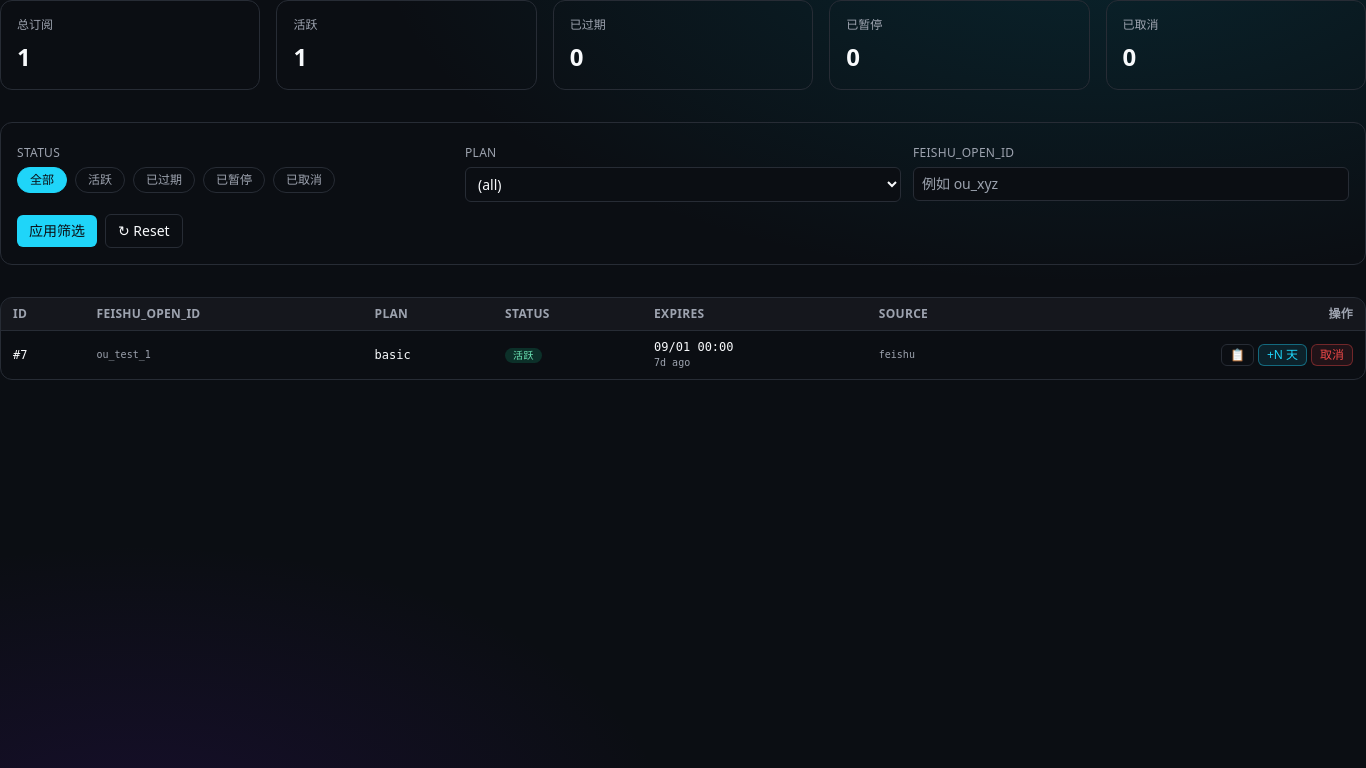
SubscriptionsPanel › Cancel flow: confirm modal → cancelSubscription + refresh
Click the button with test id "sub-cancel-7": (1332, 355) 1311,344 -> 1353,366
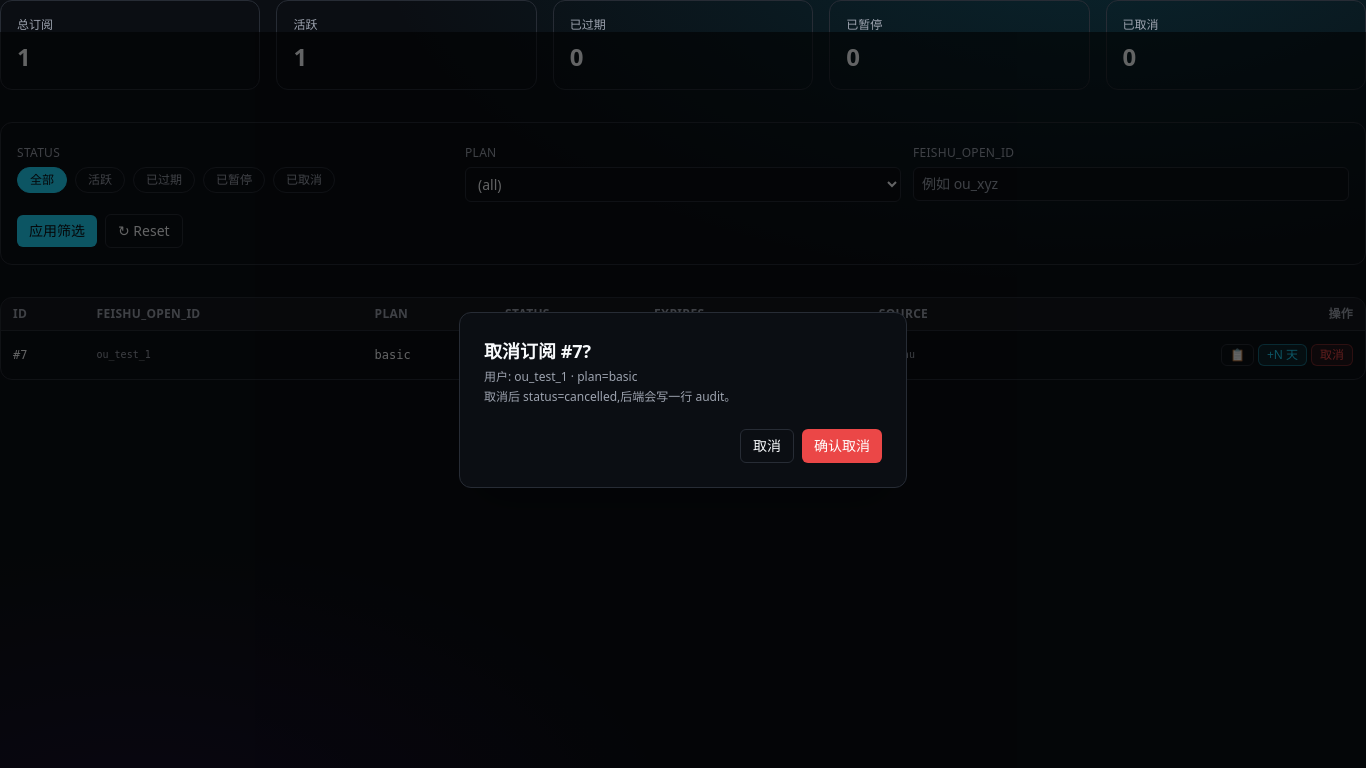
Expected: the dialog with test id "cancel-modal" is shown
Expected: the form with test id "cancel-form" shows "#7", 459,312 -> 907,488
Click the button with test id "cancel-submit": (842, 446) 802,429 -> 882,463
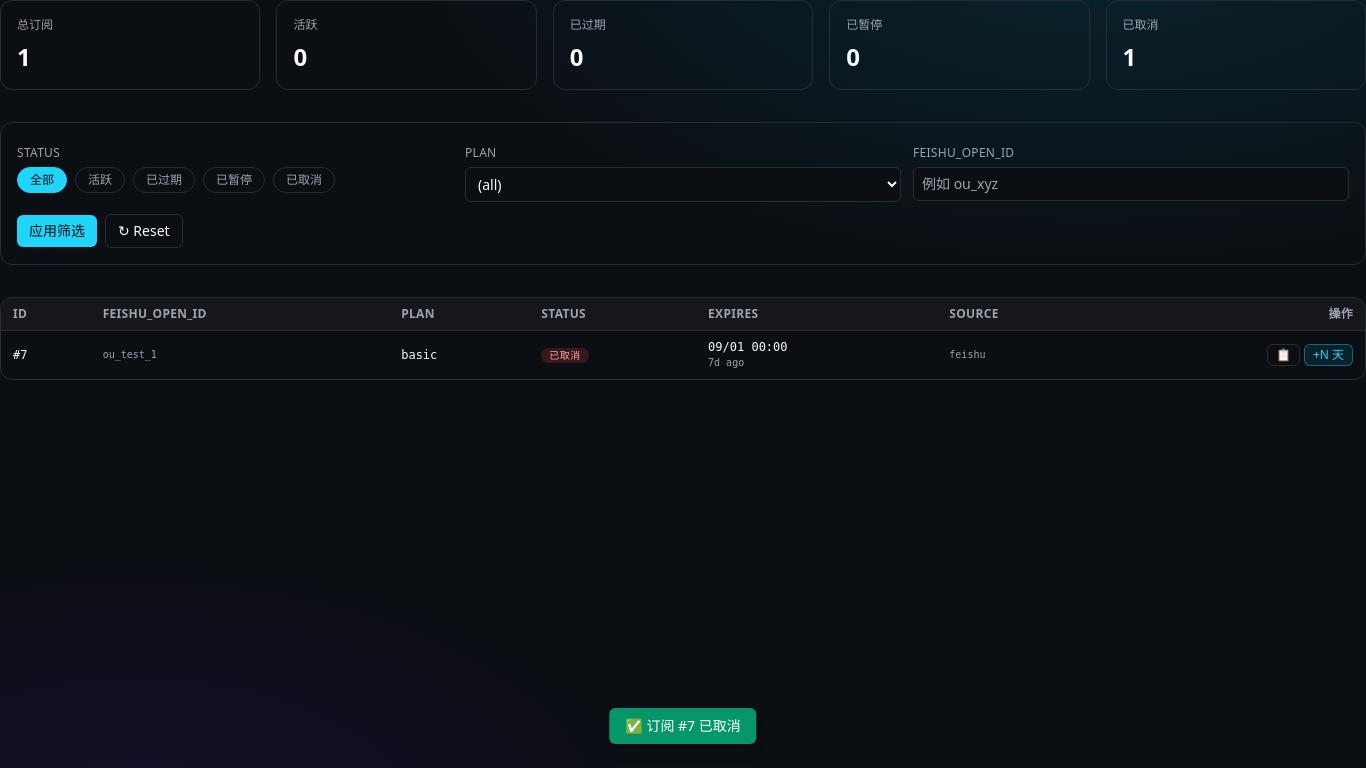
Expected: the dialog with test id "cancel-modal" is gone
Expected: the message with test id "subscriptions-toast" shows "已取消", 625,716 -> 741,735
